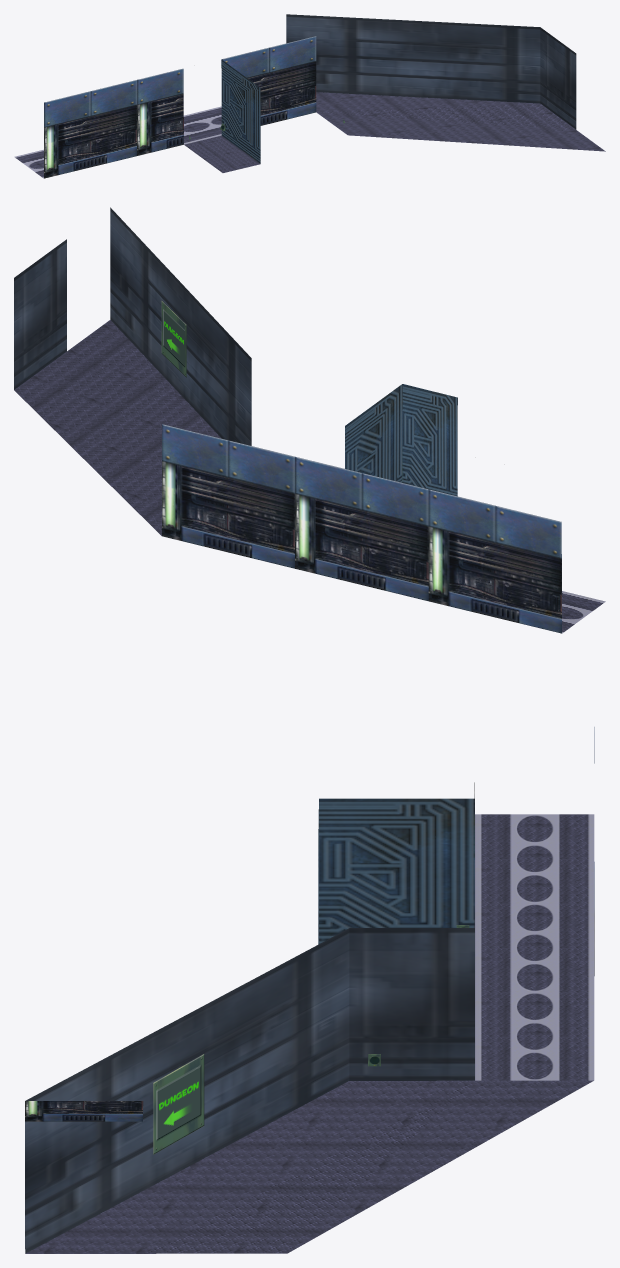
The picture shows the model from 3 angles, top to bottom: view 1: azimuth 30°, elevation 25°; view 2: azimuth 150°, elevation 25°; view 3: azimuth 270°, elevation 25°; orthographic projection. The views are drawn at different scales.
Parts seen in each view (by area): view 1: 4; view 2: 4; view 3: 4.
Part boxes in pixels (x1,y1,x2,y2): 4: (14, 14, 605, 178); 4: (14, 207, 605, 633); 4: (25, 727, 594, 1253).
Bounding box in the file's own units: 4488 × 729 × 2464.
Materials: 8 (8 with a texture image).
